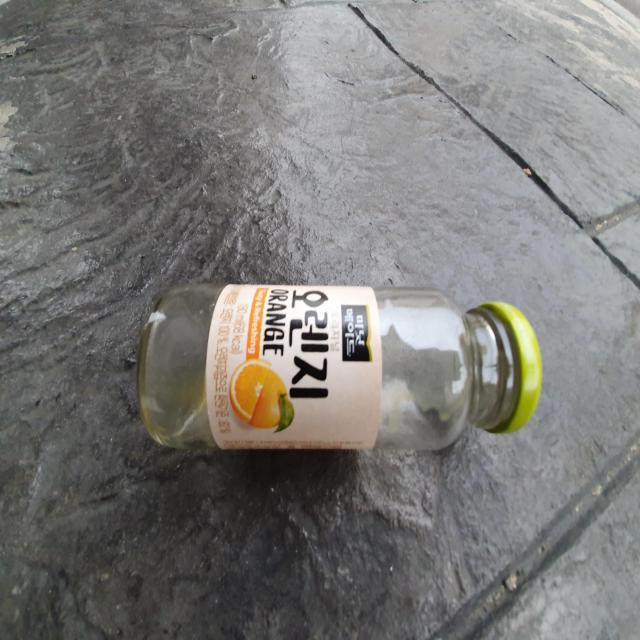glass: (137, 284, 543, 450)
